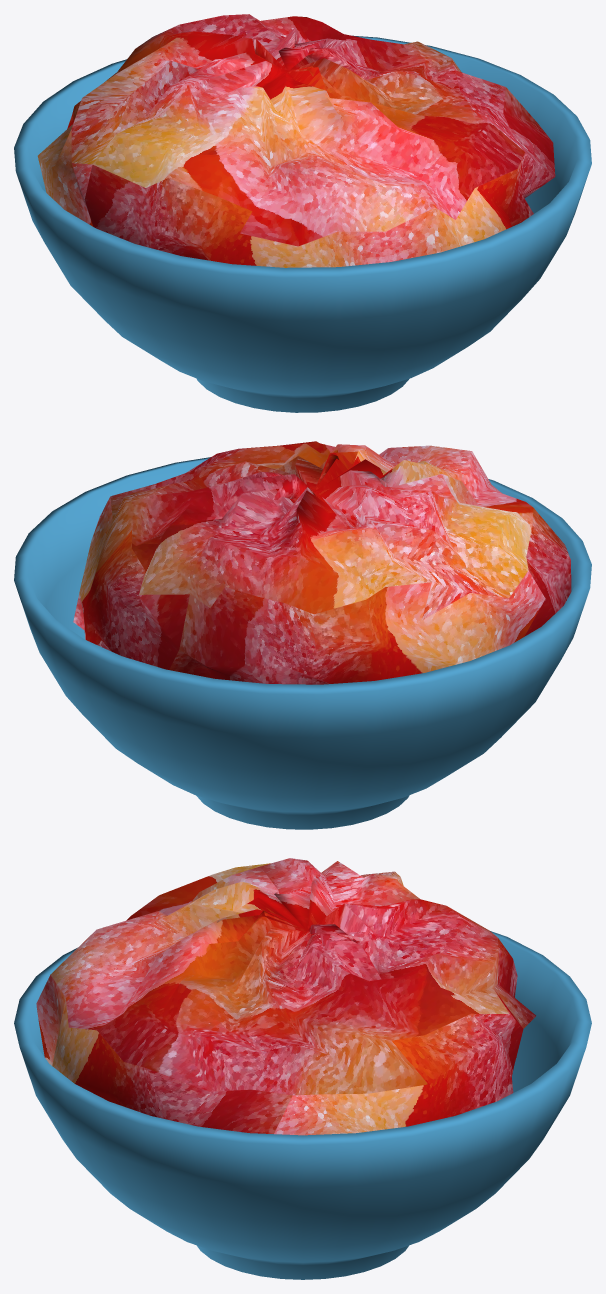
Rendered from Bowl of Jellies.obj.
3 renders of one model, top to bottom at view 1: azimuth 30°, elevation 25°; view 2: azimuth 150°, elevation 25°; view 3: azimuth 270°, elevation 25°, orthographic.
Parts seen in each view (by area): view 1: Bowl_of_Jellies; view 2: Bowl_of_Jellies; view 3: Bowl_of_Jellies.
Boxes of the visible parts, left/top/right/bottom form: Bowl_of_Jellies: left=14, top=14, right=591, bottom=412; Bowl_of_Jellies: left=14, top=441, right=591, bottom=829; Bowl_of_Jellies: left=14, top=858, right=591, bottom=1279.
Size of the model in its own units: 0.4424 by 0.2689 by 0.4424.
